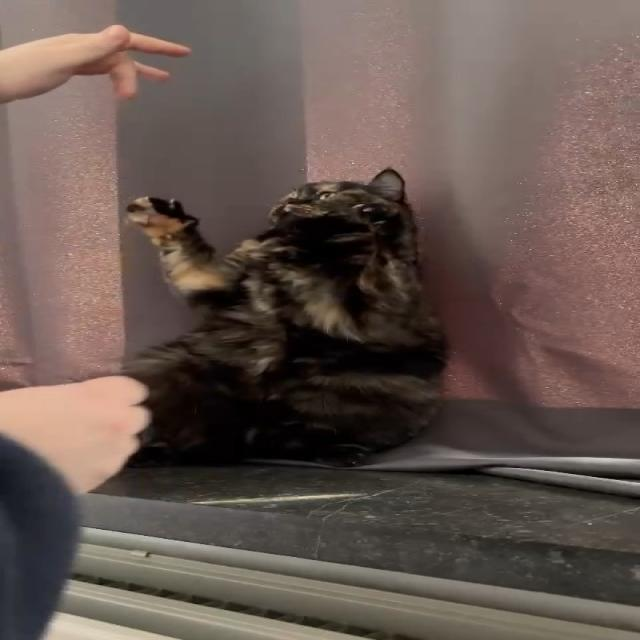authorized: (117, 166, 451, 469)
